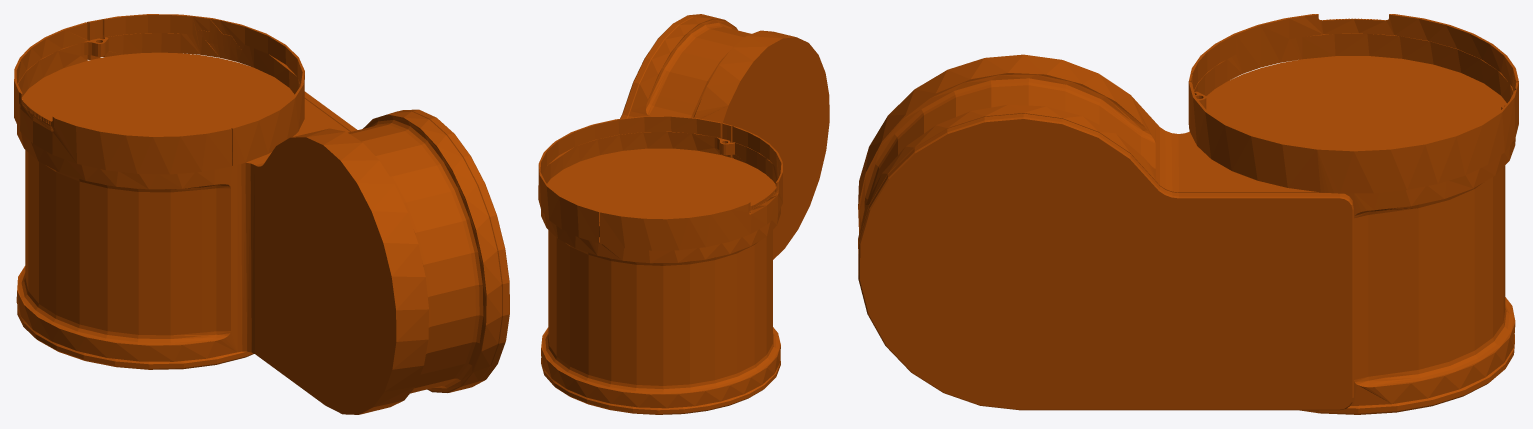
Rendered from left_lower_hip.stl.obj.
3 renders of one model, left to right at view 1: azimuth 30°, elevation 25°; view 2: azimuth 150°, elevation 25°; view 3: azimuth 270°, elevation 25°, orthographic. The views are drawn at different scales.
Parts seen in each view (by area): view 1: <STL_BINARY>; view 2: <STL_BINARY>; view 3: <STL_BINARY>.
Boxes of the visible parts, box(x1,y1,x2,y2) form: <STL_BINARY>: box(14, 14, 509, 414); <STL_BINARY>: box(538, 14, 829, 414); <STL_BINARY>: box(858, 14, 1518, 414).
Bounding box in the file's own units: 0.1212 × 0.12 × 0.237.
